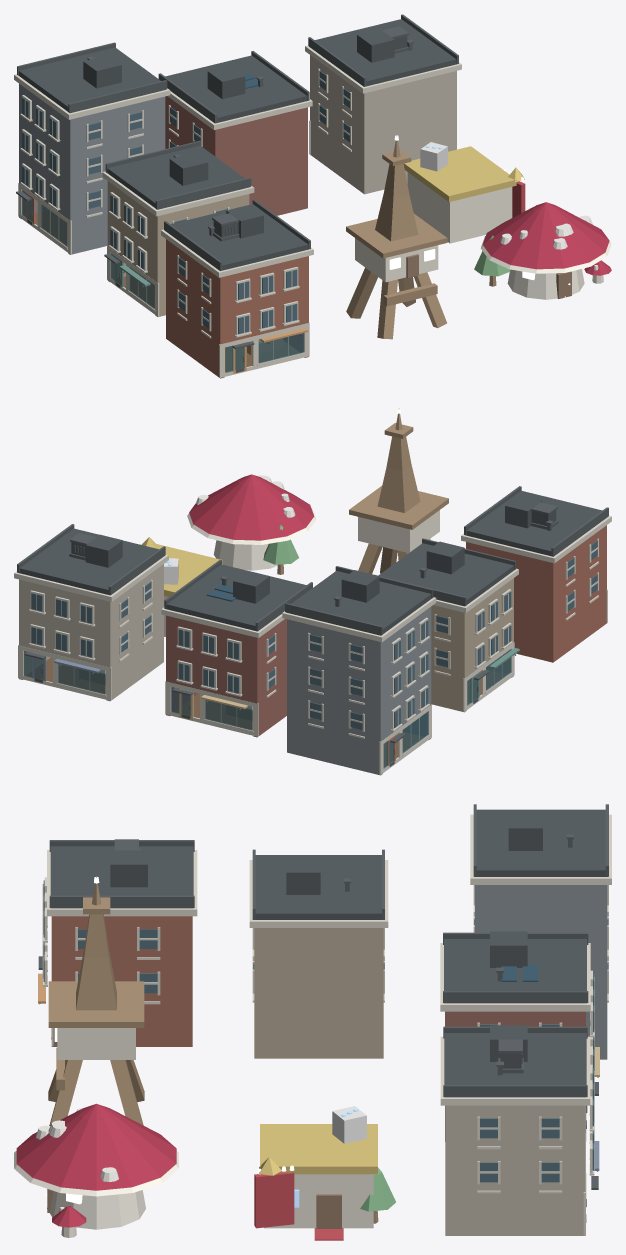
The model's file is downtown-block-m1-p0.glb.
The picture shows the model from 3 angles, top to bottom: view 1: azimuth 30°, elevation 25°; view 2: azimuth 150°, elevation 25°; view 3: azimuth 270°, elevation 25°; orthographic projection. The views are drawn at different scales.
Parts seen in each view (by area): view 1: urban_townhouse_07.002, urban_townhouse_05.002, urban_townhouse_09.002, urban_townhouse_08.002, urban_townhouse_06.002, cap.002, base.003, cap.003, deck.002, home.001, t1.001, stem.001 (+7 smaller); view 2: urban_townhouse_07.002, urban_townhouse_09.002, urban_townhouse_08.002, urban_townhouse_05.002, urban_townhouse_06.002, cap.002, deck.002, home.001, t1.001, stem.001, cap.003, rim.001 (+2 smaller); view 3: urban_townhouse_09.002, urban_townhouse_06.002, urban_townhouse_05.002, urban_townhouse_07.002, urban_townhouse_08.002, cap.002, cap.003, base.003, deck.002, home.001, stem.001, sign.001 (+8 smaller).
Boxes of the visible parts, x1,y1,x2,y2 form: urban_townhouse_07.002: (14,42,170,254); urban_townhouse_05.002: (161,199,313,378); urban_townhouse_09.002: (305,14,461,194); urban_townhouse_08.002: (158,51,312,215); urban_townhouse_06.002: (102,140,254,316); cap.002: (482,205,609,269); base.003: (407,172,512,243); cap.003: (404,146,516,201); deck.002: (346,213,447,258); home.001: (355,238,438,282); t1.001: (375,192,418,241); stem.001: (507,269,584,299); urban_townhouse_07.002: (282,566,436,775); urban_townhouse_09.002: (14,524,168,701); urban_townhouse_08.002: (161,560,312,737); urban_townhouse_05.002: (461,486,611,662); urban_townhouse_06.002: (374,538,519,712); cap.002: (189,477,314,540); deck.002: (349,486,448,529); home.001: (358,510,439,552); t1.001: (377,465,420,512); stem.001: (213,540,277,570); cap.003: (155,544,222,596); rim.001: (187,507,315,544); urban_townhouse_09.002: (440,1025,599,1235); urban_townhouse_06.002: (249,849,388,1058); urban_townhouse_05.002: (38,839,197,1046); urban_townhouse_07.002: (470,804,611,1059); urban_townhouse_08.002: (440,931,599,1141); cap.002: (16,1108,176,1190); cap.003: (260,1124,377,1174); base.003: (264,1174,373,1228); deck.002: (48,981,144,1027); home.001: (57,1028,135,1059); stem.001: (47,1190,145,1229); sign.001: (254,1172,294,1228).
Bounding box in the file's own units: 35.08 × 15.67 × 34.96.
